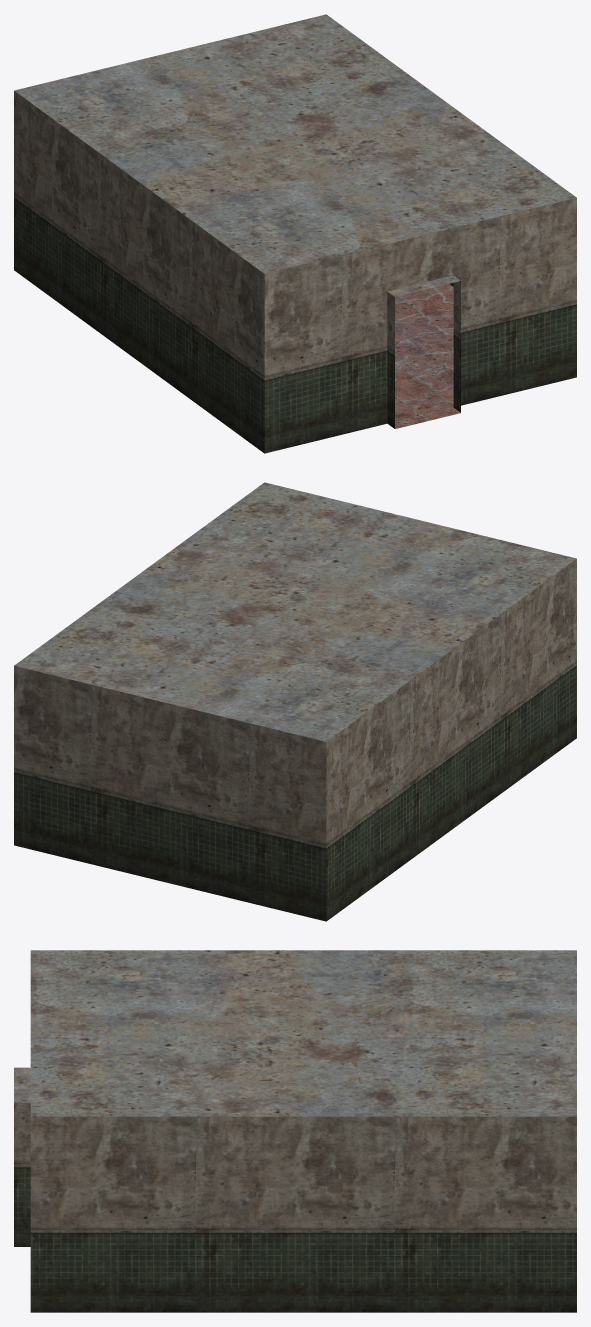
Rendered from _Room_13.FBX.
The picture shows the model from 3 angles, top to bottom: view 1: azimuth 30°, elevation 25°; view 2: azimuth 150°, elevation 25°; view 3: azimuth 270°, elevation 25°; orthographic projection. The views are drawn at different scales.
Visible parts, largest first — view 1: _Room_13; view 2: _Room_13; view 3: _Room_13.
Boxes of the visible parts, x1,y1,x2,y2 form: _Room_13: (14, 14, 576, 453); _Room_13: (14, 482, 576, 921); _Room_13: (14, 950, 576, 1312).
Bounding box in the file's own units: 1129 × 620 × 1616.
3 materials, 3 textured.
